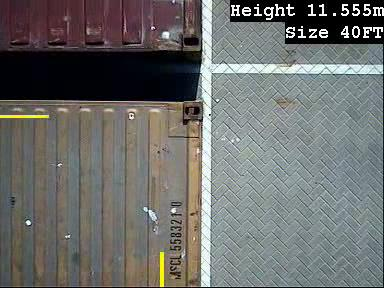groundmarker_2: (203, 54, 240, 116), (203, 226, 240, 288)
